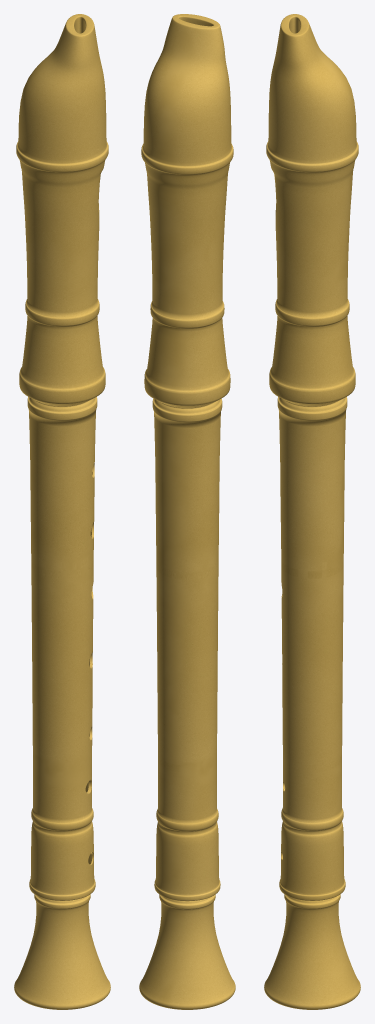
Rendered from 10390_Recorder-L1.obj.
The picture shows the model from 3 angles, left to right: view 1: azimuth 90°, elevation 25°; view 2: azimuth 150°, elevation 25°; view 3: azimuth 270°, elevation 25°; orthographic projection.
Parts seen in each view (by area): view 1: Recorder1; view 2: Recorder1; view 3: Recorder1.
Boxes of the visible parts, bbox=[...] form: Recorder1: bbox=[14, 14, 110, 1009]; Recorder1: bbox=[139, 14, 235, 1009]; Recorder1: bbox=[264, 14, 360, 1009].
Size of the model in its own units: 3.41 by 37.64 by 3.41.
1 material, 1 textured.
